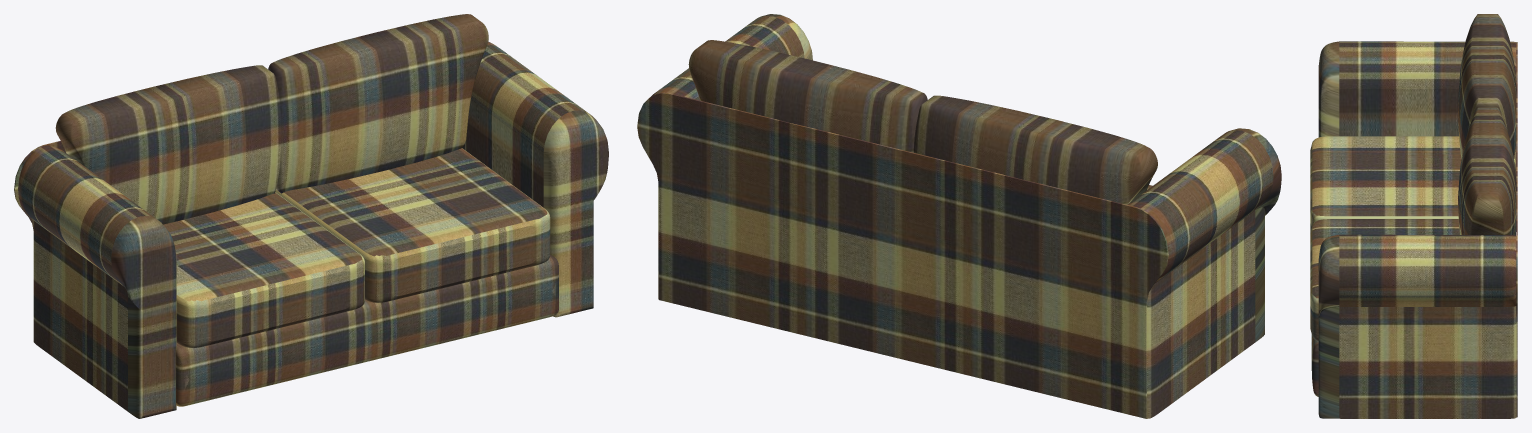
File: sweethome3d-contributions-sofa-256.glb
3 renders of one model, left to right at view 1: azimuth 30°, elevation 25°; view 2: azimuth 150°, elevation 25°; view 3: azimuth 270°, elevation 25°, orthographic. The views are drawn at different scales.
Visible parts, largest first — view 1: sofa2_1_1; view 2: sofa2_1_1; view 3: sofa2_1_1.
Part boxes in pixels (x1,y1,x2,y2): sofa2_1_1: (14,14,608,418); sofa2_1_1: (637,14,1281,418); sofa2_1_1: (1310,14,1517,418).
Bounding box in the file's own units: 185 × 83.54 × 74.04.
1 material, 1 textured.
